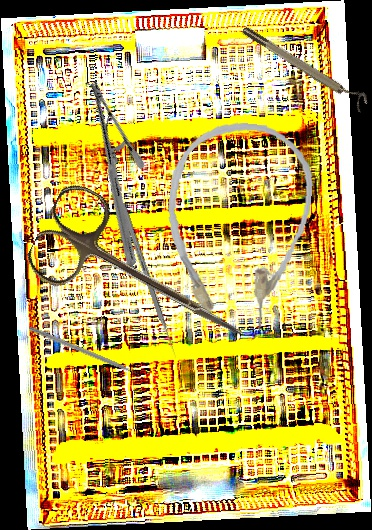Cannula: (156, 116, 319, 335)
Chopper: (25, 325, 148, 386)
Fixation Ring: (239, 18, 372, 114)
Iris Scissors: (20, 177, 268, 375)
Needle Holder: (22, 79, 204, 269)
Pusher: (119, 202, 179, 360)
